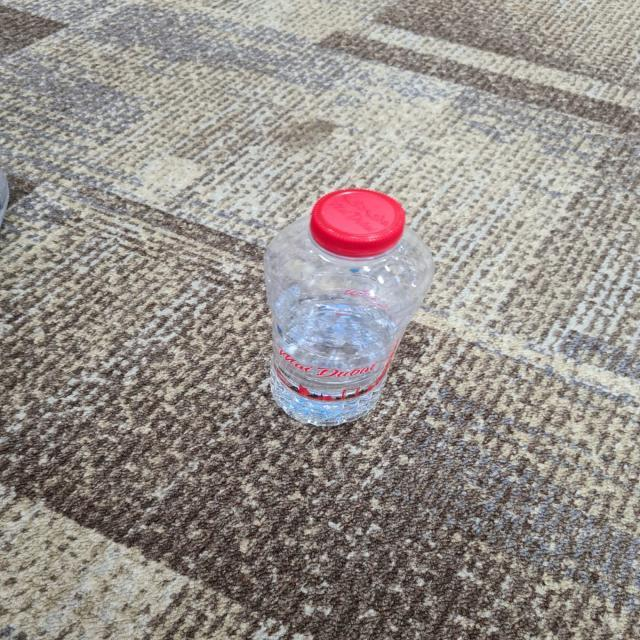chai: (265, 189, 432, 426)
